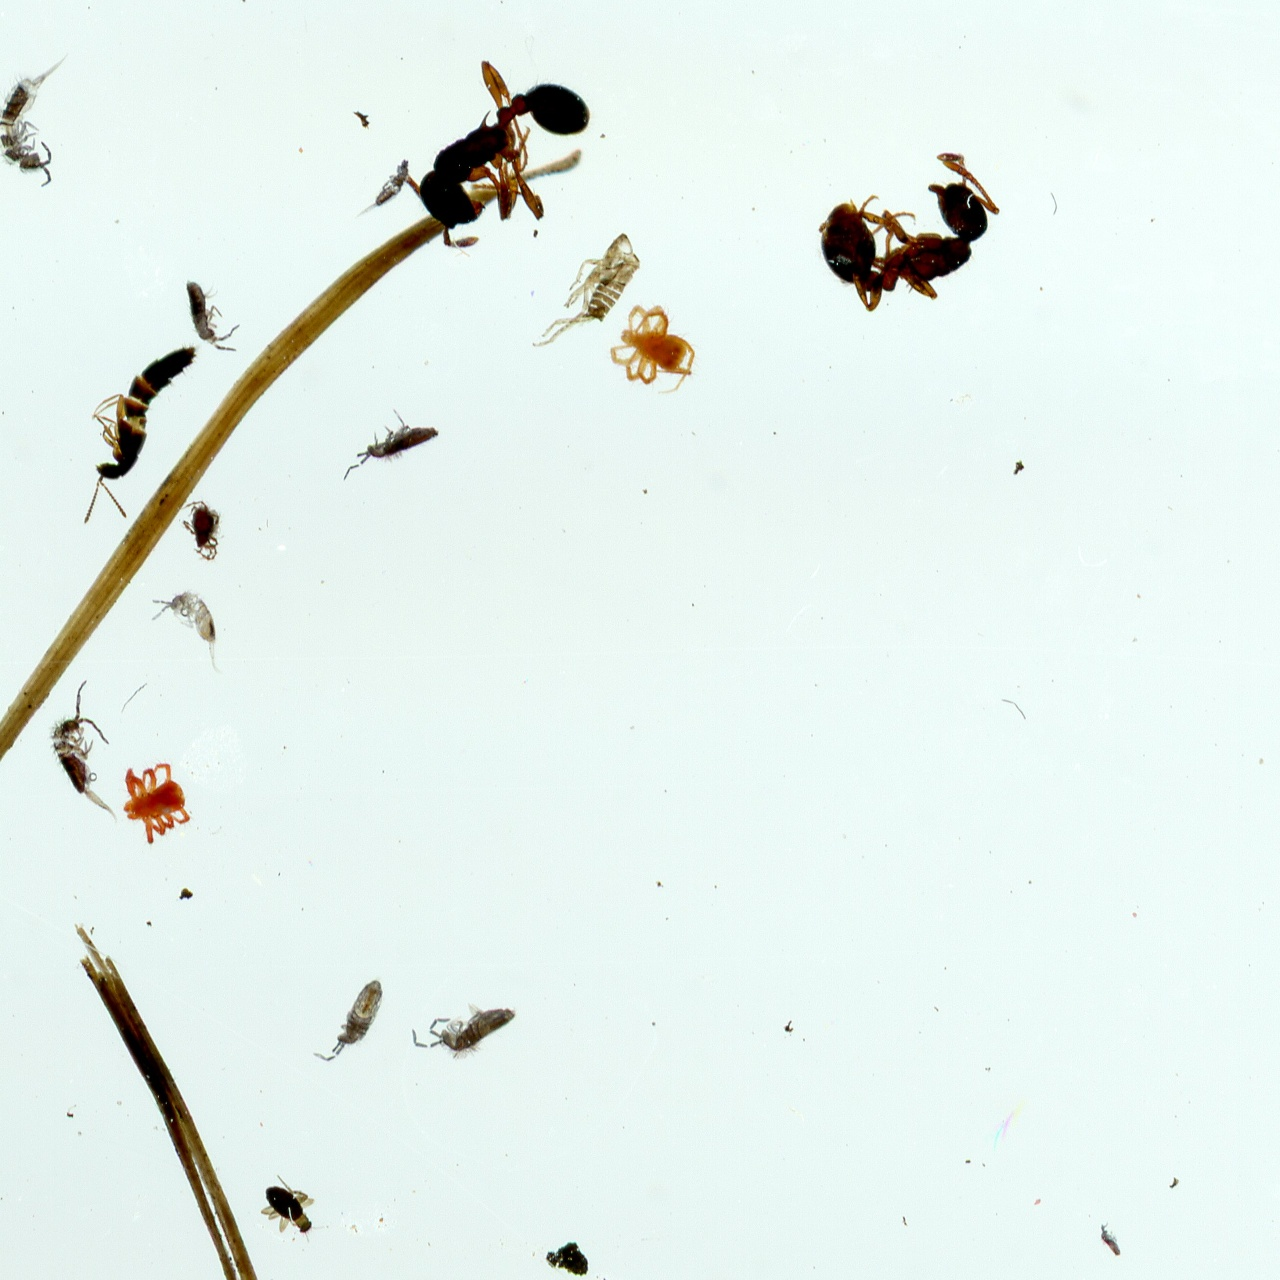arthropod: (402, 58, 595, 254), (54, 320, 206, 548), (813, 146, 1003, 315), (321, 390, 457, 486), (43, 675, 122, 823), (0, 40, 73, 197), (401, 988, 534, 1071), (600, 301, 701, 397), (243, 1160, 339, 1259), (170, 258, 250, 367), (115, 760, 202, 847), (311, 978, 392, 1067), (147, 590, 225, 671), (350, 159, 410, 223), (180, 499, 224, 564), (1090, 1216, 1133, 1267)
